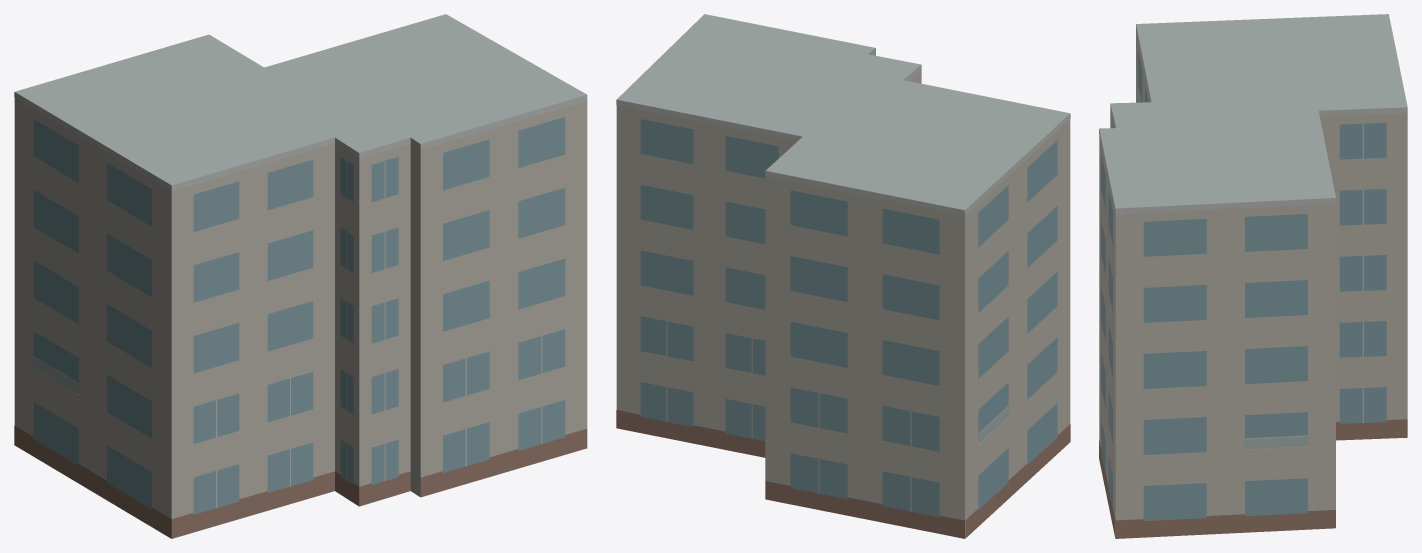
The model's file is survey-upis-32667017.glb.
3 views of the same model, side by side, from view 1: azimuth 30°, elevation 25°; view 2: azimuth 150°, elevation 25°; view 3: azimuth 270°, elevation 25° (orthographic). The views are drawn at different scales.
Parts seen in each view (by area): view 1: survey-upis-32667017.tmp; view 2: survey-upis-32667017.tmp; view 3: survey-upis-32667017.tmp.
Part boxes in pixels (<box>): survey-upis-32667017.tmp: <box>14,14,587,538</box>; survey-upis-32667017.tmp: <box>616,14,1070,538</box>; survey-upis-32667017.tmp: <box>1099,14,1407,538</box>.
Bounding box in the file's own units: 18.07 × 14.3 × 12.12.
